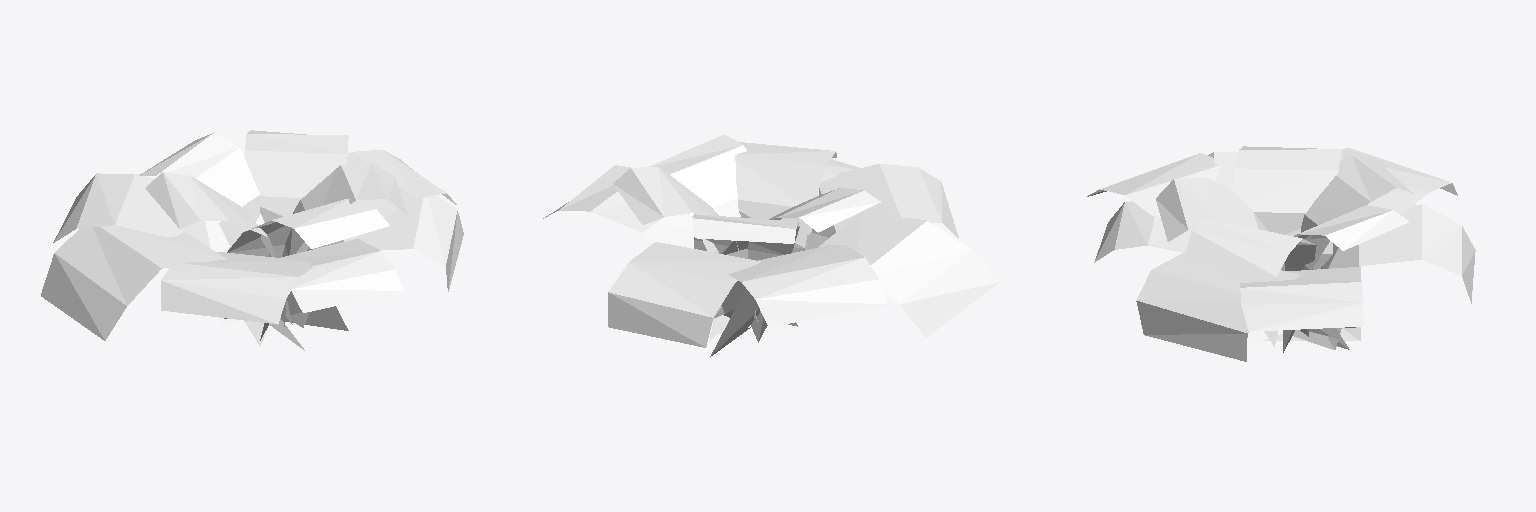
The model's file is fern.obj.
3 views of the same model, side by side, from view 1: azimuth 30°, elevation 25°; view 2: azimuth 150°, elevation 25°; view 3: azimuth 270°, elevation 25° (orthographic).
Visible parts, largest first — view 1: Plane; view 2: Plane; view 3: Plane.
Part boxes in pixels (bbox=[...]): Plane: bbox=[41, 130, 463, 350]; Plane: bbox=[543, 134, 998, 356]; Plane: bbox=[1087, 146, 1475, 361].
Size of the model in its own units: 11.34 by 4.33 by 10.04.